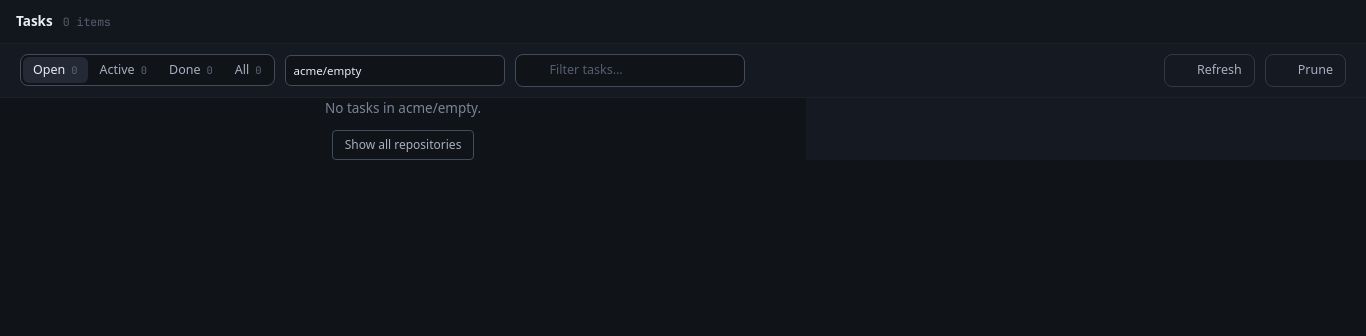
Test: TasksView › names the scoped repo in the empty state, keeps it selectable, and offers show-all
Expected: the element with test id "tasks-empty" shows "No tasks in acme/empty", [325, 99, 481, 117]
Expected: the button with test id "tasks-repo-select" reads "acme/empty", [284, 55, 504, 86]
What coordinates should you click on to do the following:
click the button with test id "tasks-empty-show-all"
I would click on:
 (403, 145)
Its box is [332, 130, 474, 160].
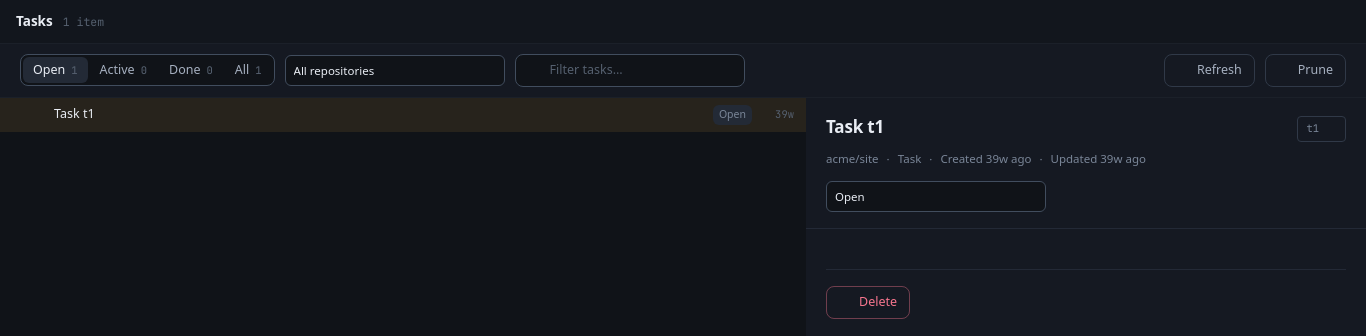
Expected: the number of buttons with test id "task-tree-row" is 1, [0, 98, 806, 132]
